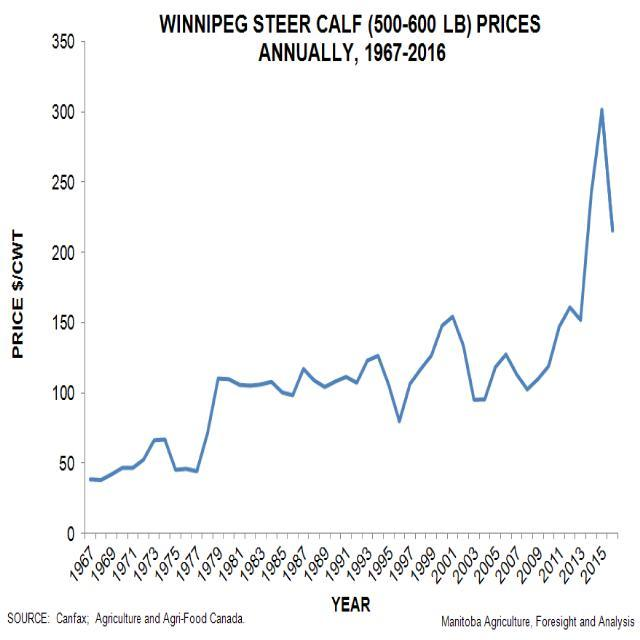axis: (82, 527, 626, 544), (77, 28, 90, 541)
line: (87, 104, 616, 484)
